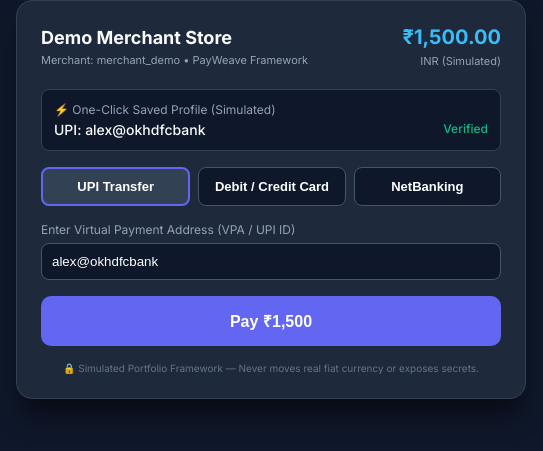
Test: PayWeaveCheckout SDK Component › validates UPI ID format and displays accessible error message
Note: Enter invalid UPI ID
Replace the text in the field labelled "Enter Virtual Payment Address (VPA / UPI ID)" with "invalid_upi_without_at" at coordinates (271, 262), box [41,243,501,280]
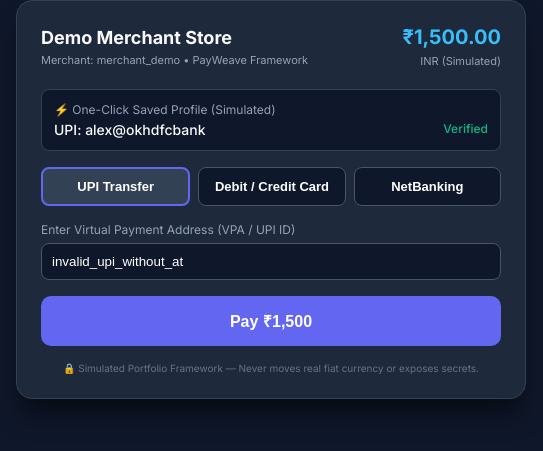
Click the button "Pay ₹1,500" at coordinates (271, 321), box [41,296,501,346]
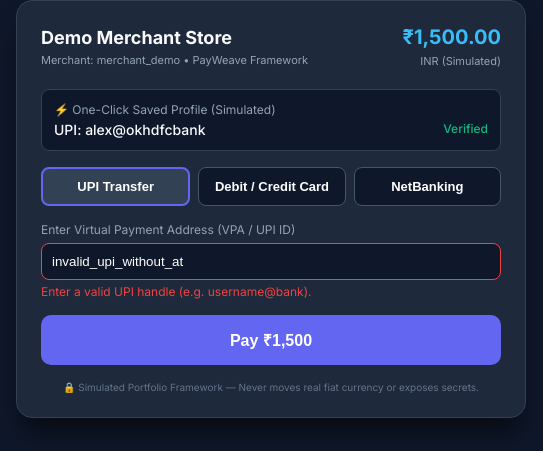
Expected: the message shows "Enter a valid UPI handle", [41,284,312,299]
